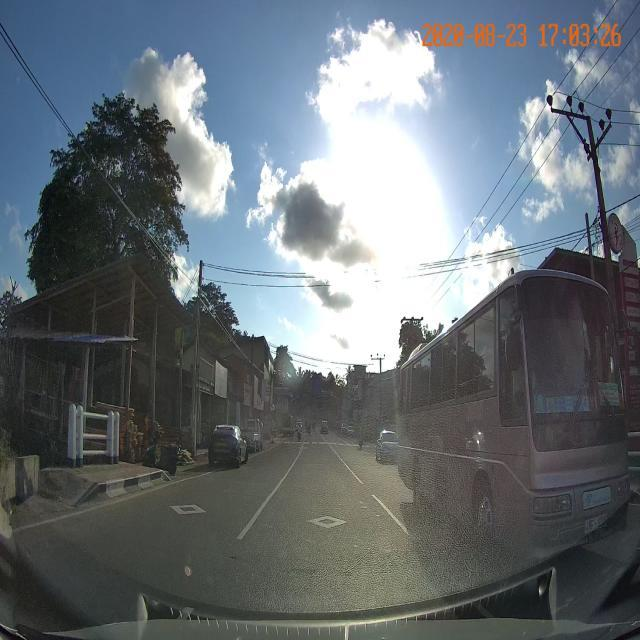diamond: (245, 515, 411, 534)
